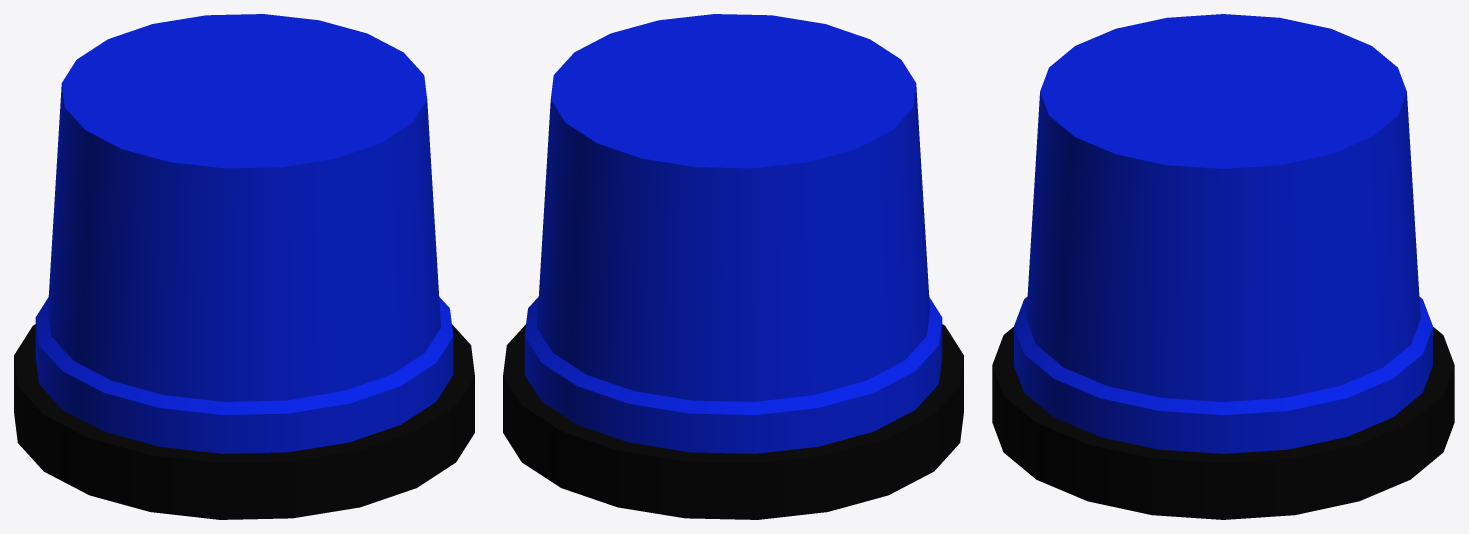
Rendered from siren.fbx.
3 views of the same model, side by side, from view 1: azimuth 30°, elevation 25°; view 2: azimuth 150°, elevation 25°; view 3: azimuth 270°, elevation 25° (orthographic).
Parts seen in each view (by area): view 1: Cube.004; view 2: Cube.004; view 3: Cube.004.
Part boxes in pixels (<box>): Cube.004: <box>14,14,474,519</box>; Cube.004: <box>503,14,963,519</box>; Cube.004: <box>992,14,1454,519</box>.
Size of the model in its own units: 22.29 by 17.59 by 22.29.
